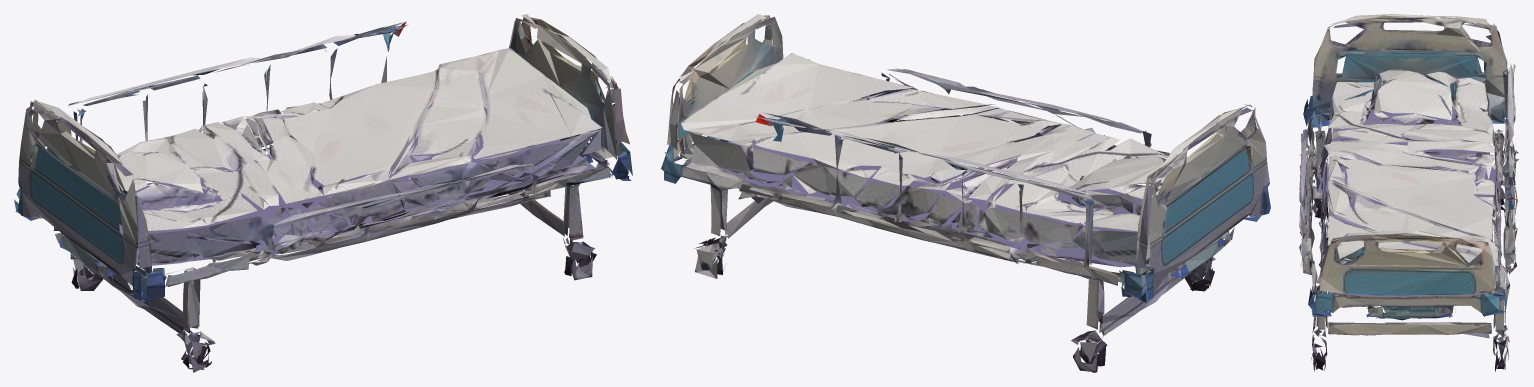
The model's file is clinic_bed.glb.
3 views of the same model, side by side, from view 1: azimuth 30°, elevation 25°; view 2: azimuth 150°, elevation 25°; view 3: azimuth 270°, elevation 25° (orthographic). The views are drawn at different scales.
Parts seen in each view (by area): view 1: world; view 2: world; view 3: world.
Part boxes in pixels (box(x1,y1,x2,y2)): world: box(14, 14, 632, 372); world: box(661, 14, 1270, 372); world: box(1299, 14, 1518, 371).
Bounding box in the file's own units: 2 × 0.8327 × 0.9289.
Materials: 1 (1 with a texture image).
